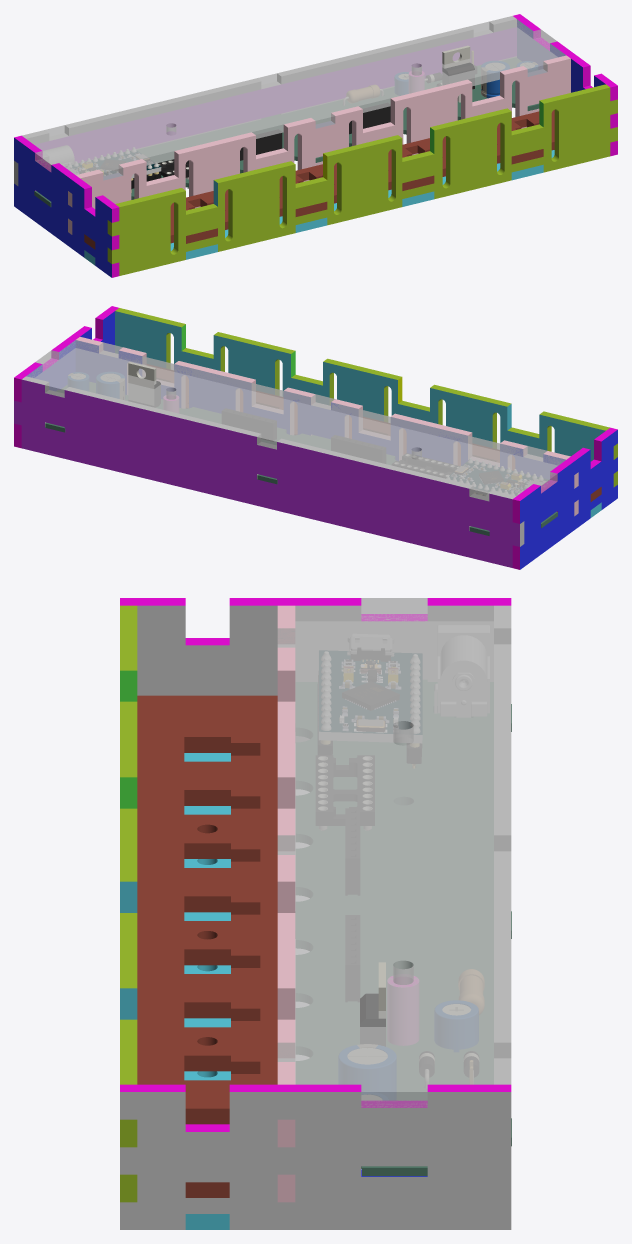
The model's file is xylophonerobot_4.gltf.
3 views of the same model, one above another, from view 1: azimuth 30°, elevation 25°; view 2: azimuth 150°, elevation 25°; view 3: azimuth 270°, elevation 25° (orthographic). The views are drawn at different scales.
Visible parts, largest first — view 1: plate_hor_front, pcb_top_glass, pcb_wall_front, pcb_wall_back, sidepanel_2, plate_sol_holder_lower, PCB, sidepanel_1, plate_sol_stopper_lower, SOLID006, SOLID001, SOLID008 (+4 smaller); view 2: pcb_wall_front, pcb_top_glass, plate_hor_front, pcb_wall_back, sidepanel_2, sidepanel_1, plate_sol_holder_lower, PCB, SOLID006, SOLID008, SOLID003, micro board (+2 smaller); view 3: pcb_top_glass, PCB, plate_sol_holder_lower, sidepanel_1, sidepanel_2, pcb_wall_back, plate_hor_front, pcb_wall_front, micro board, COMPOUND, plate_sol_stopper_lower, SOLID002 (+7 smaller).
Part boxes in pixels (x1=…): plate_hor_front: x1=107, y1=84, x2=617, y2=275; pcb_top_glass: x1=26, y1=19, x2=565, y2=180; pcb_wall_front: x1=14, y1=16, x2=516, y2=185; pcb_wall_back: x1=68, y1=55, x2=570, y2=234; sidepanel_2: x1=14, y1=135, x2=119, y2=277; plate_sol_holder_lower: x1=84, y1=110, x2=554, y2=249; PCB: x1=34, y1=58, x2=539, y2=206; sidepanel_1: x1=513, y1=14, x2=617, y2=156; plate_sol_stopper_lower: x1=84, y1=150, x2=554, y2=265; SOLID006: x1=442, y1=45, x2=474, y2=102; SOLID001: x1=481, y1=61, x2=509, y2=98; SOLID008: x1=349, y1=103, x2=390, y2=134; pcb_wall_front: x1=14, y1=376, x2=524, y2=567; pcb_top_glass: x1=26, y1=340, x2=565, y2=501; plate_hor_front: x1=115, y1=308, x2=617, y2=487; pcb_wall_back: x1=76, y1=337, x2=578, y2=516; sidepanel_2: x1=512, y1=427, x2=617, y2=569; sidepanel_1: x1=14, y1=306, x2=118, y2=448; plate_sol_holder_lower: x1=147, y1=364, x2=601, y2=501; PCB: x1=45, y1=382, x2=557, y2=535; SOLID006: x1=128, y1=362, x2=160, y2=406; SOLID008: x1=222, y1=409, x2=276, y2=440; SOLID003: x1=331, y1=435, x2=385, y2=463; micro board: x1=447, y1=458, x2=547, y2=495; pcb_top_glass: x1=277, y1=598, x2=511, y2=1107; PCB: x1=296, y1=680, x2=511, y2=1176; plate_sol_holder_lower: x1=137, y1=695, x2=277, y2=1197; sidepanel_1: x1=120, y1=1084, x2=511, y2=1229; sidepanel_2: x1=120, y1=598, x2=511, y2=741; pcb_wall_back: x1=277, y1=605, x2=295, y2=1202; plate_hor_front: x1=120, y1=605, x2=137, y2=1202; pcb_wall_front: x1=494, y1=605, x2=511, y2=1183; micro board: x1=319, y1=651, x2=421, y2=742; COMPOUND: x1=435, y1=625, x2=489, y2=716; plate_sol_stopper_lower: x1=184, y1=753, x2=230, y2=1229; SOLID002: x1=316, y1=756, x2=374, y2=830.
Size of the model in its own units: 0.2002 by 0.0304 by 0.0671.
